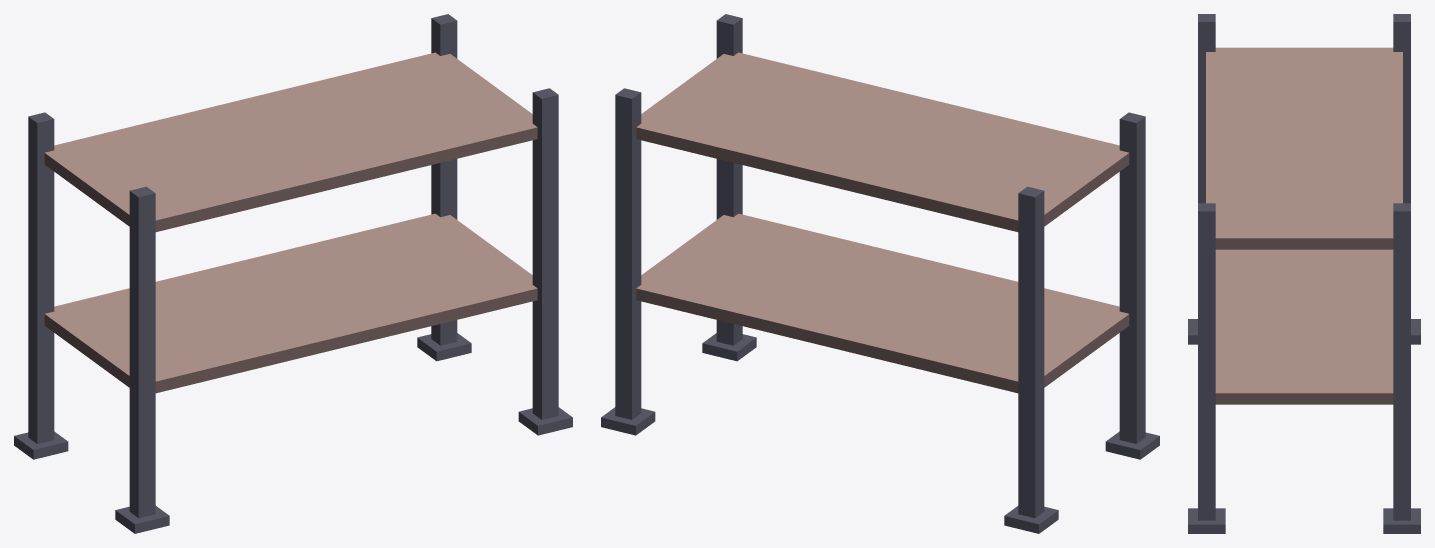
The model's file is rack_2.glb.
3 renders of one model, left to right at view 1: azimuth 30°, elevation 25°; view 2: azimuth 150°, elevation 25°; view 3: azimuth 270°, elevation 25°, orthographic. The views are drawn at different scales.
Visible parts, largest first — view 1: rack_2; view 2: rack_2; view 3: rack_2.
Part boxes in pixels (x1=…): rack_2: x1=14, y1=14, x2=572, y2=533; rack_2: x1=601, y1=14, x2=1159, y2=533; rack_2: x1=1188, y1=14, x2=1420, y2=533.
Size of the model in its own units: 1.52 by 1.1 by 0.7262.
